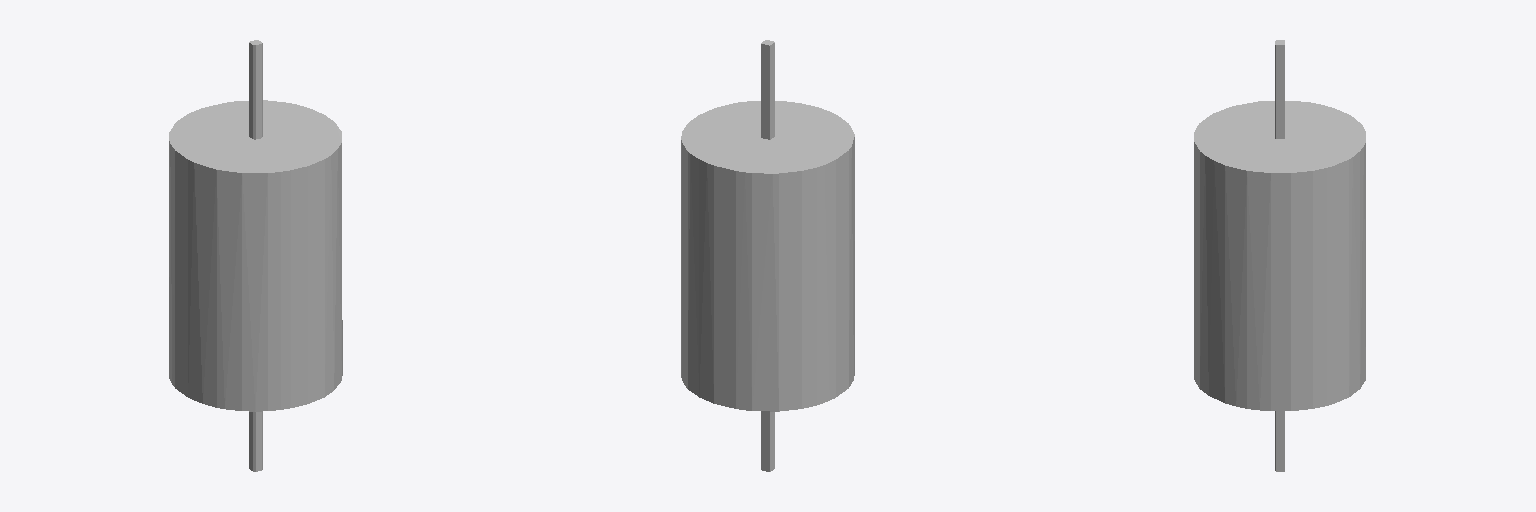
The model's file is meat_vhacd.obj.
3 renders of one model, left to right at view 1: azimuth 30°, elevation 25°; view 2: azimuth 150°, elevation 25°; view 3: azimuth 270°, elevation 25°, orthographic.
Visible parts, largest first — view 1: convex_2, convex_0, convex_1; view 2: convex_2, convex_0, convex_1; view 3: convex_2, convex_0, convex_1.
Part boxes in pixels (bbox=[...]): convex_2: bbox=[169, 100, 342, 411]; convex_0: bbox=[249, 40, 262, 139]; convex_1: bbox=[249, 412, 262, 471]; convex_2: bbox=[681, 101, 854, 411]; convex_0: bbox=[761, 40, 774, 139]; convex_1: bbox=[761, 411, 774, 471]; convex_2: bbox=[1194, 101, 1365, 410]; convex_0: bbox=[1275, 40, 1284, 138]; convex_1: bbox=[1275, 411, 1284, 471].
Bounding box in the file's own units: 132 × 361 × 132.